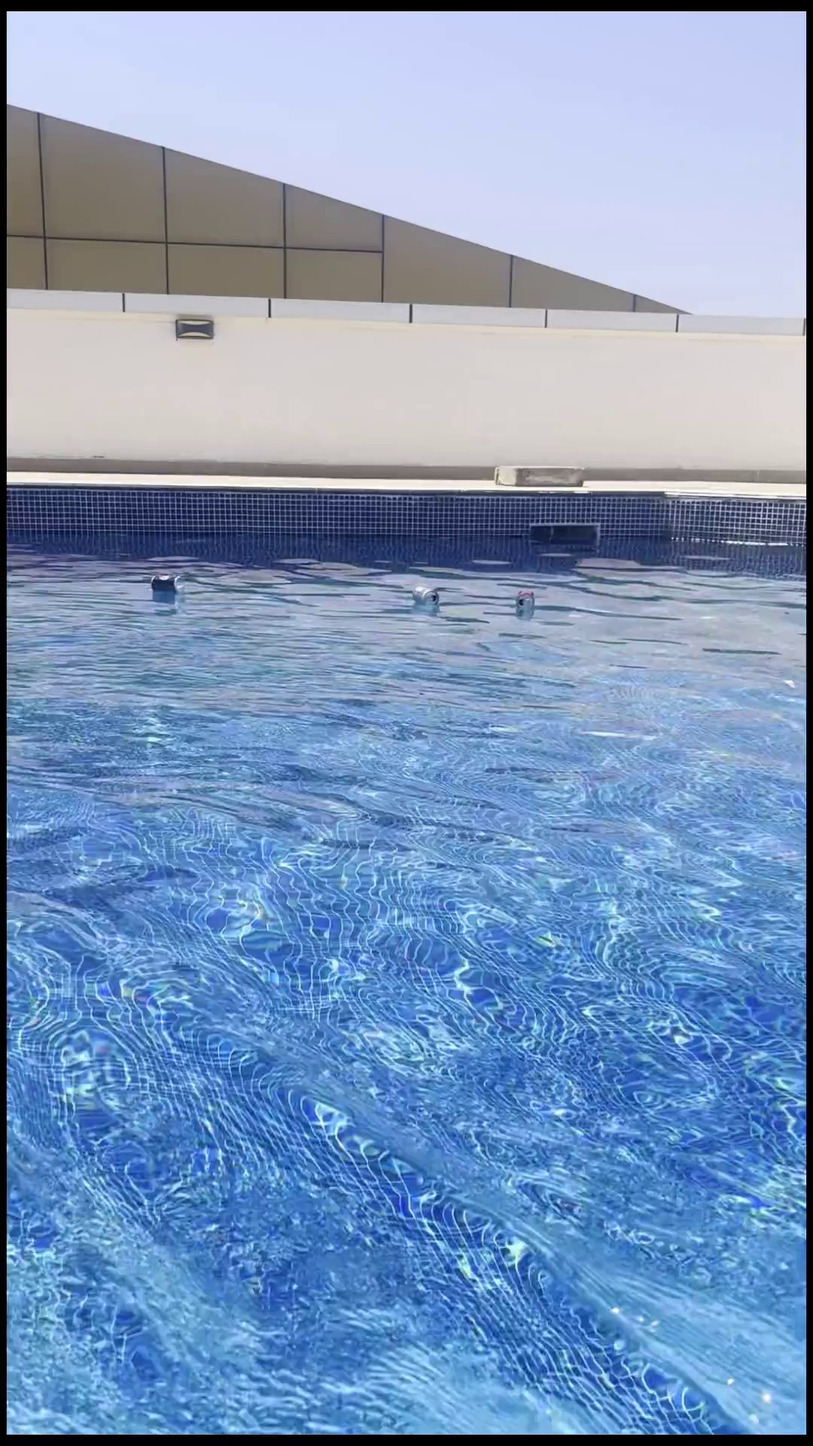debris: (147, 562, 181, 606), (410, 572, 437, 620), (510, 578, 534, 624)
